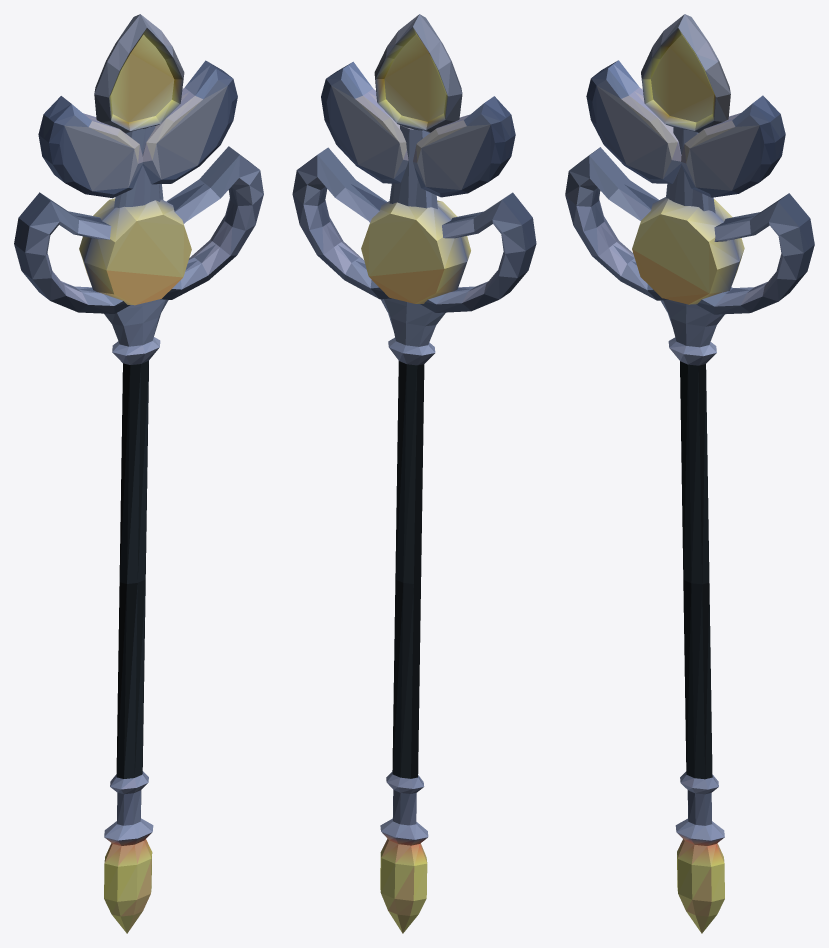
Rendered from weapon_staff_silver_4.fbx.
3 renders of one model, left to right at view 1: azimuth 30°, elevation 25°; view 2: azimuth 150°, elevation 25°; view 3: azimuth 330°, elevation 25°, orthographic. The views are drawn at different scales.
Parts seen in each view (by area): view 1: weapon_staff_silver_4; view 2: weapon_staff_silver_4; view 3: weapon_staff_silver_4.
Part boxes in pixels (<box>): weapon_staff_silver_4: <box>14,14,263,933</box>; weapon_staff_silver_4: <box>292,14,536,933</box>; weapon_staff_silver_4: <box>565,14,814,933</box>.
Size of the model in its own units: 0.8677 by 3.23 by 0.2122.
